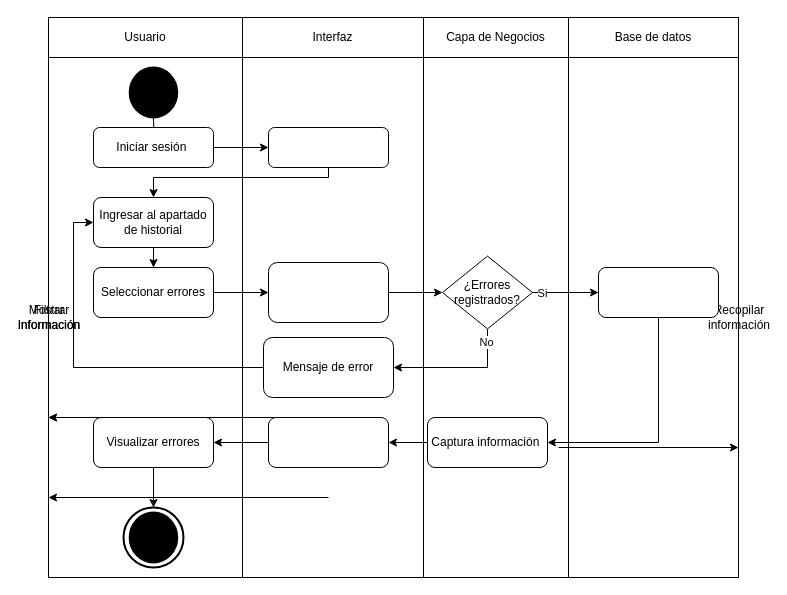
Some shapes in this 787 by 595 pixel diagram are drawn without their labels. The centre of each missing label's shape, as x and y in pixels:
Apartado errores: point 328,292
Desplegar "menú inicio": point 328,147
Desplegar historial de errores: point 328,442
Selecciona informacion: point 658,292
